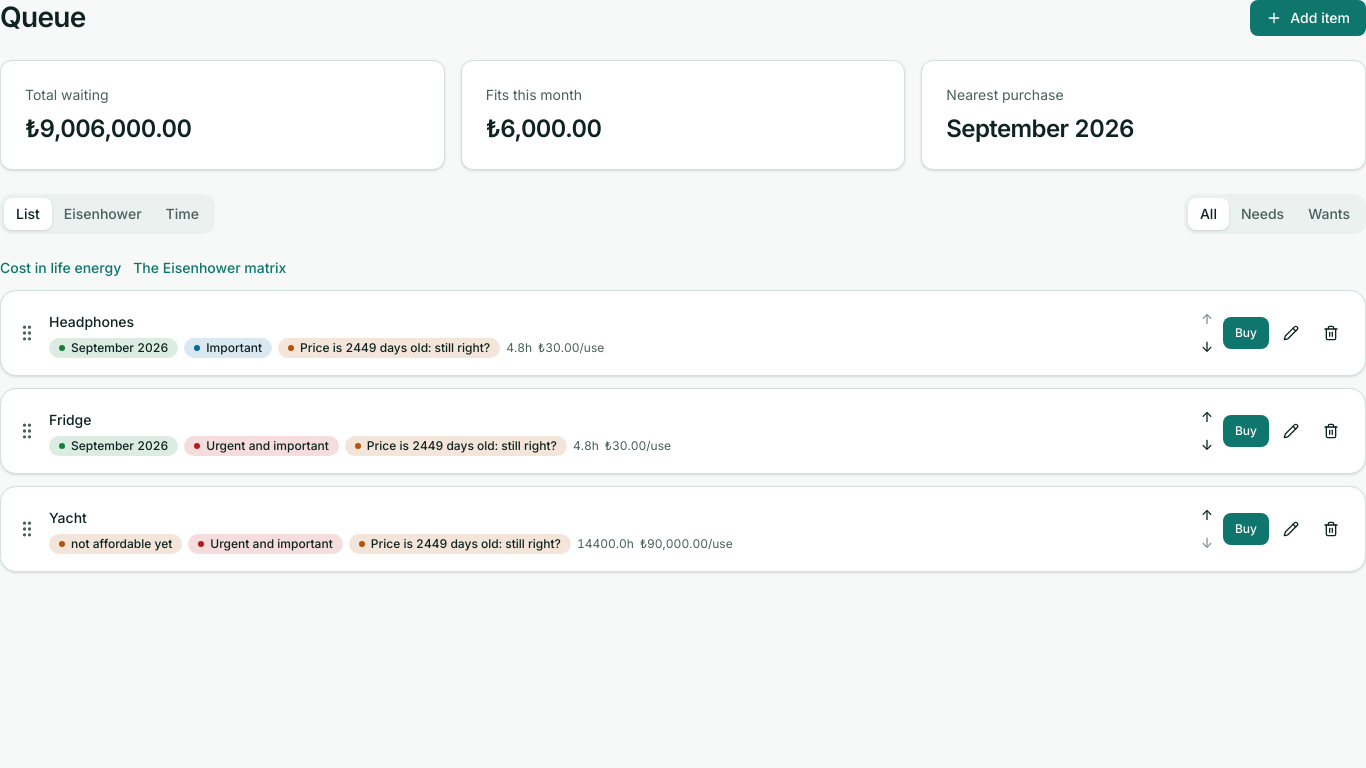
Test: Queue page layout › edits an item in the panel
Step 1. Click the button named "Edit Headphones" → click(1291, 333), box [1273,315,1309,351]
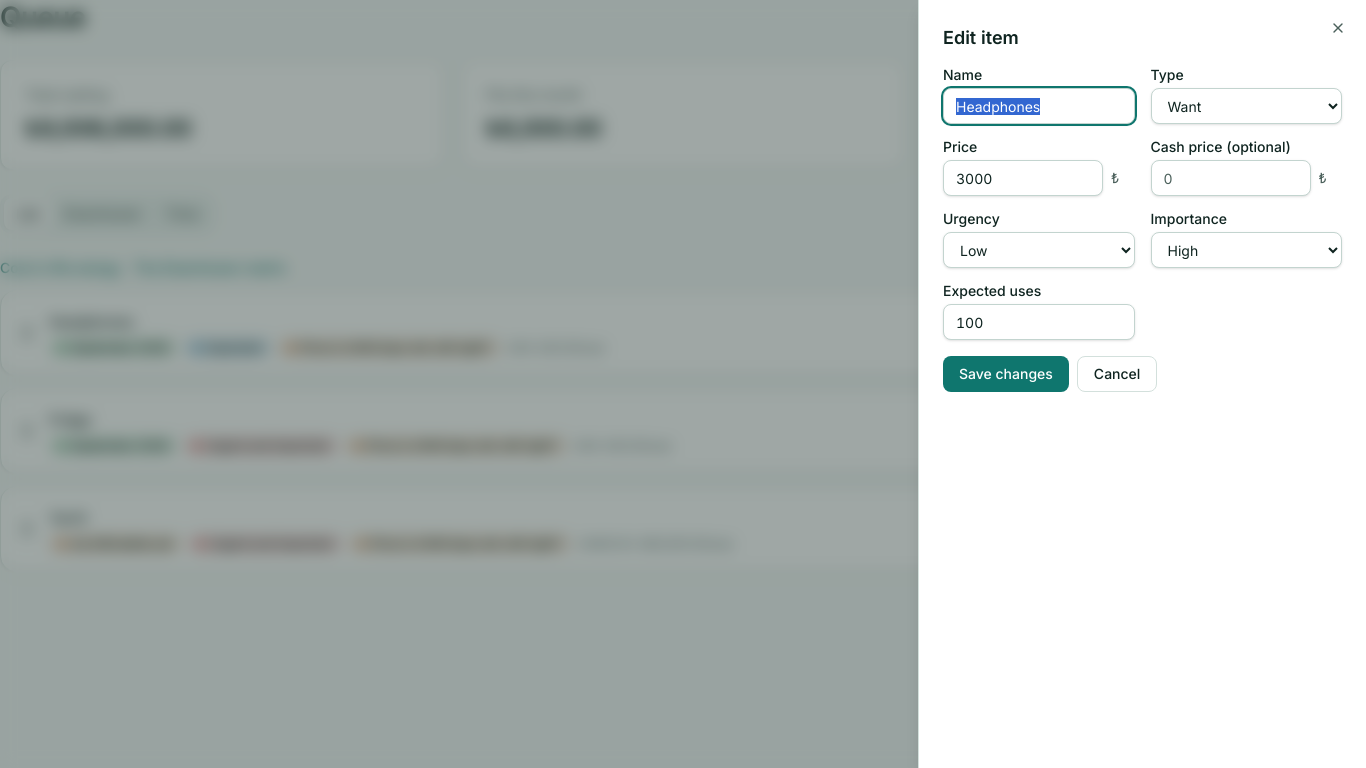
Result: the field labelled "Name" holds "Headphones"
Step 2. Replace the text in the field labelled "Name" with "Earbuds" → (1039, 106), box [943,88,1134,124]
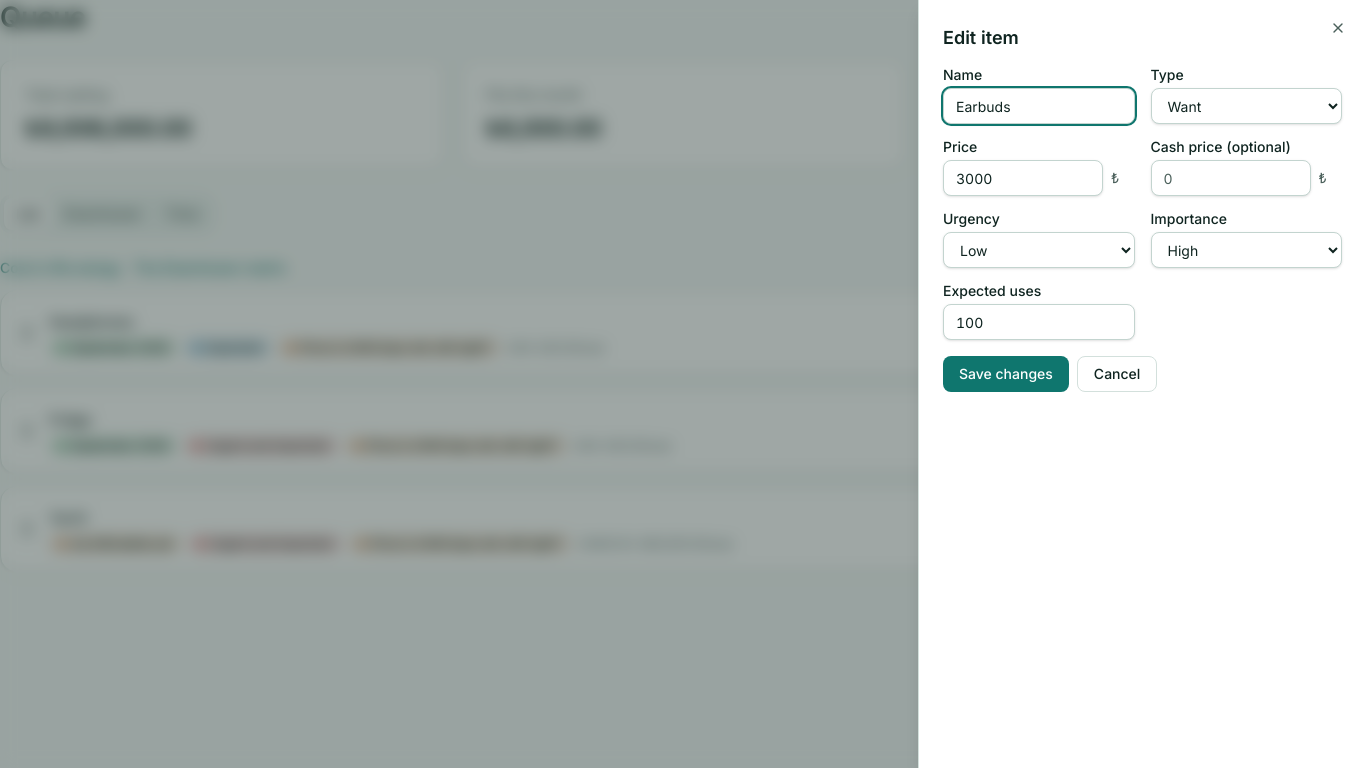
Step 3. Click the button "Save changes" → click(1006, 374), box [943,356,1069,392]
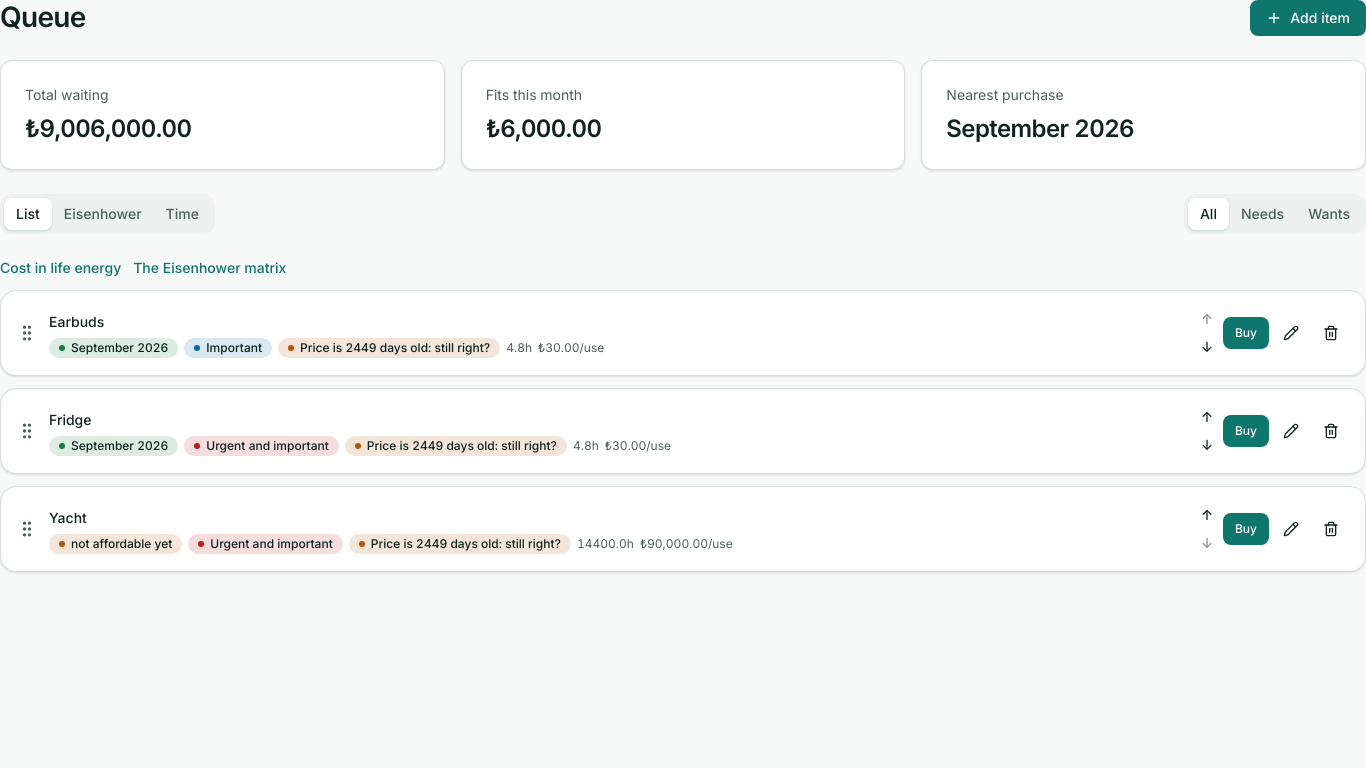
Result: the button "Earbuds" is shown at [37,310,116,334]
